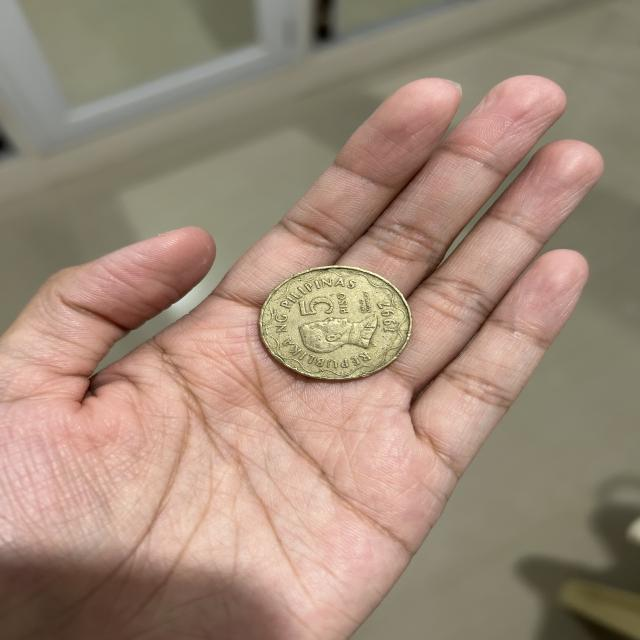5_Old_Front: (288, 290, 364, 318)
